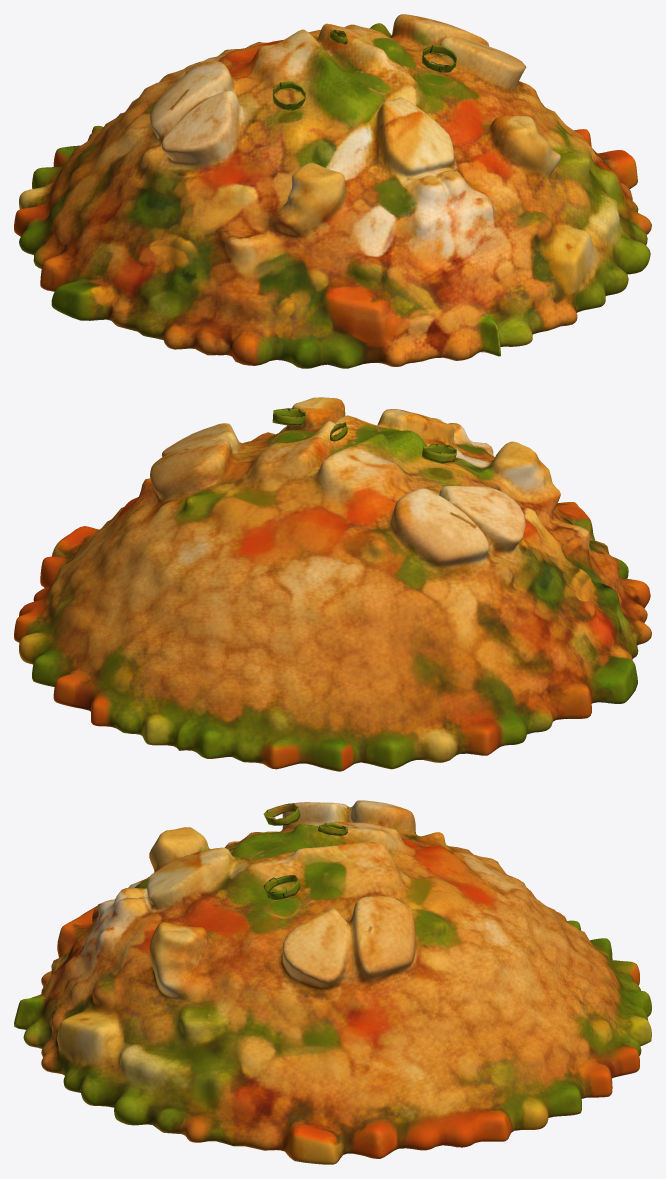
Rendered from base_basic_pbr.fbx.
The picture shows the model from 3 angles, top to bottom: view 1: azimuth 30°, elevation 25°; view 2: azimuth 150°, elevation 25°; view 3: azimuth 270°, elevation 25°; orthographic projection.
Parts seen in each view (by area): view 1: model; view 2: model; view 3: model.
Part boxes in pixels (x1,y1,x2,y2): model: (14,14,651,368); model: (14,397,651,771); model: (14,800,651,1164).
Bounding box in the file's own units: 189 × 65.88 × 185.
Materials: 1 (1 with a texture image).
